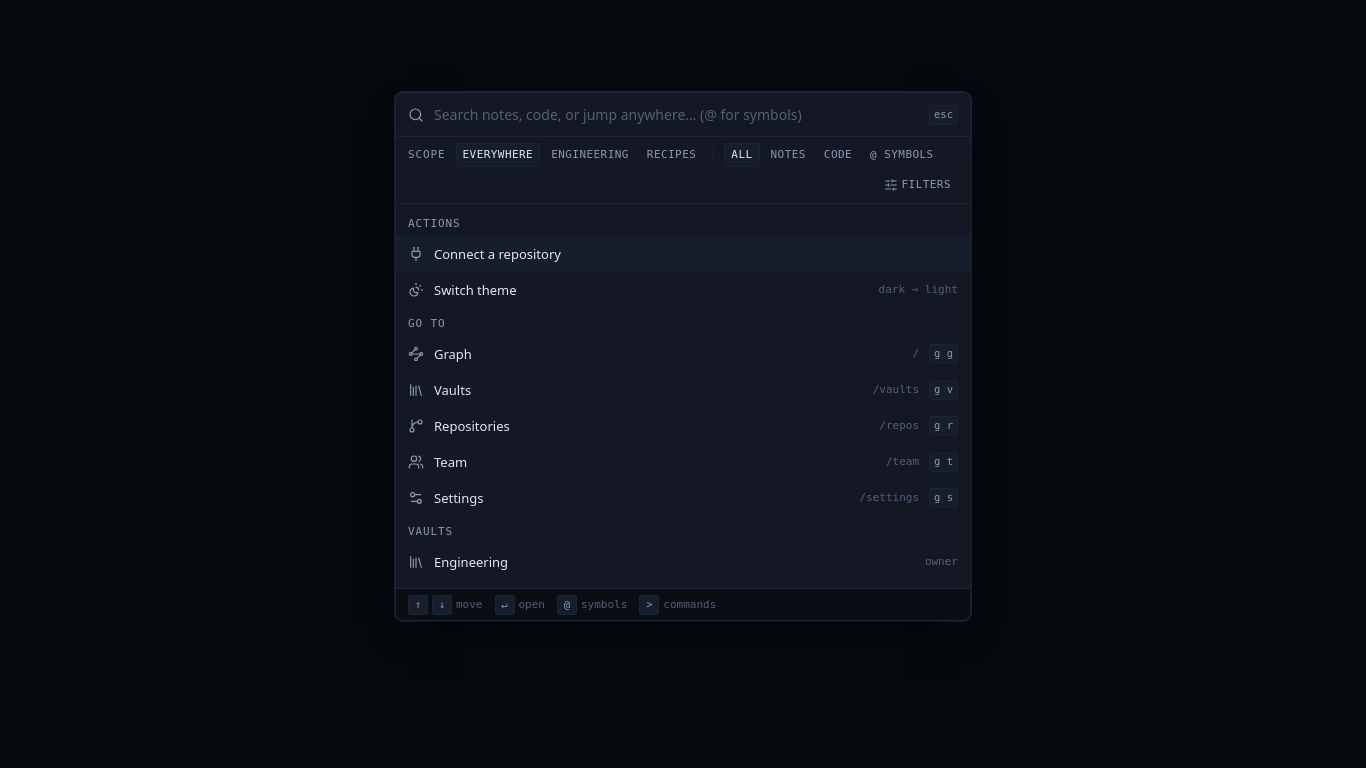
Test case: SearchOverlay commands › keeps the overlay open and shows the error when creating a vault fails
The width and height of the screenshot is (1366, 768).
Expected: the option with aria-label "Command: Go to graph" is shown, [396,336,970,372]
Type "Atlas" into the dropdown with placeholder "Search notes, code, or jump anywhere… (@ for symbols)" at (676, 115), box [434,93,919,136]
Wait 300 ms
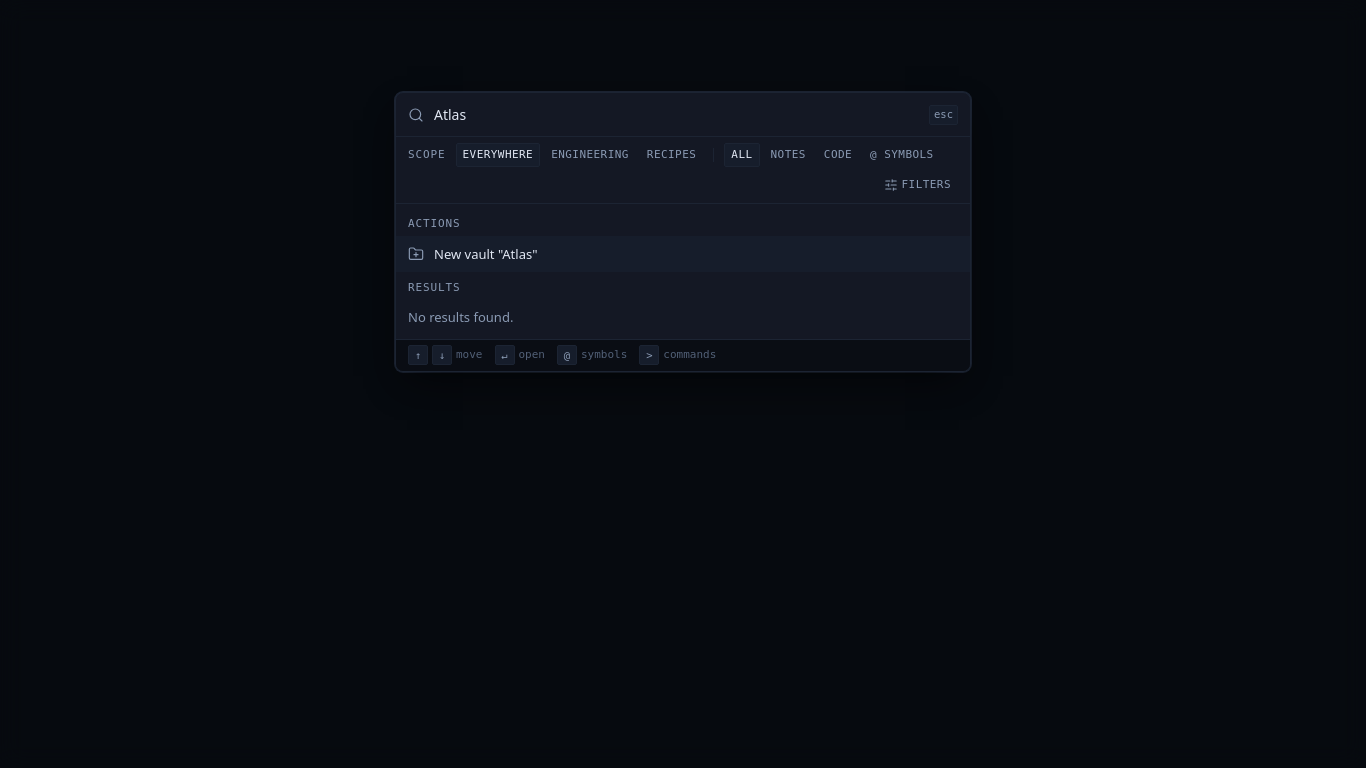
Click the option named "Command: New vault \"Atlas\"" at (486, 254), box [396,236,970,272]
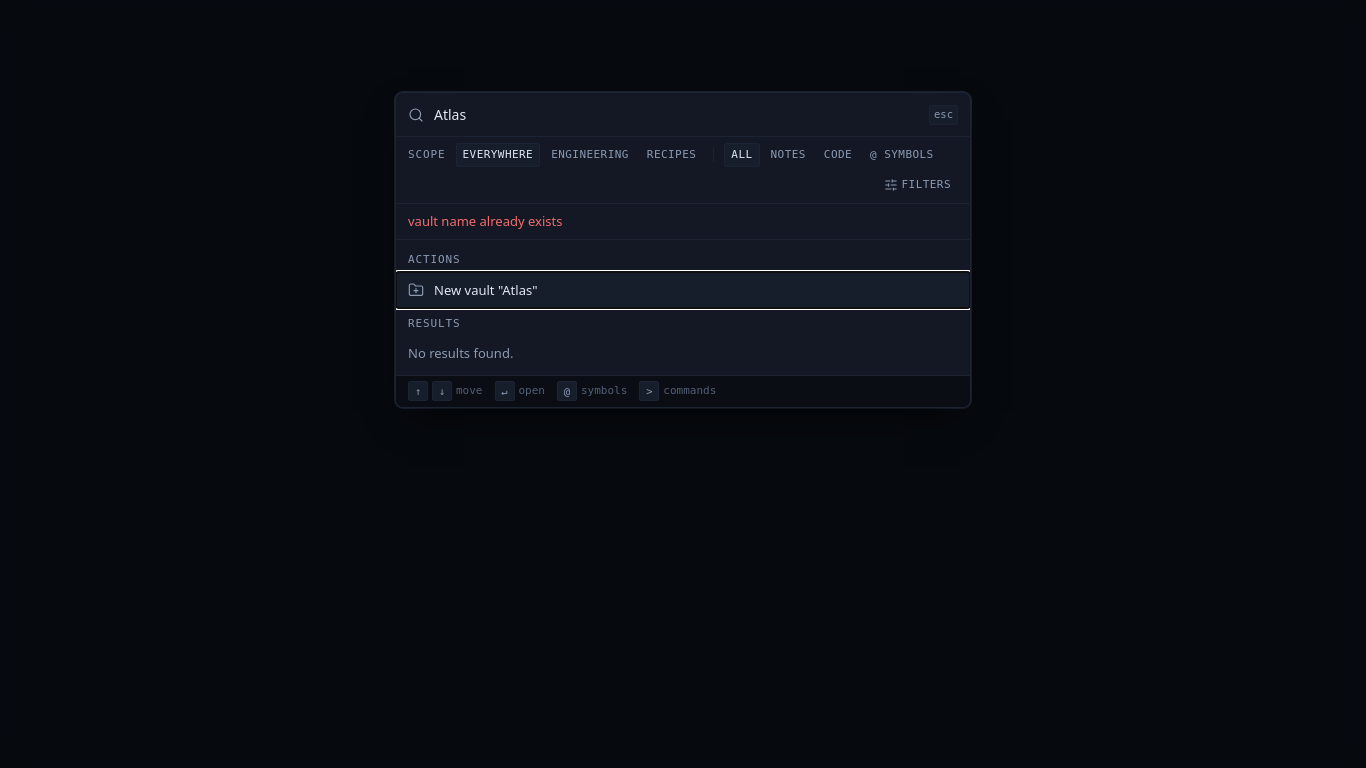
Now the text "vault name already exists" is shown, box [396,204,970,240]
